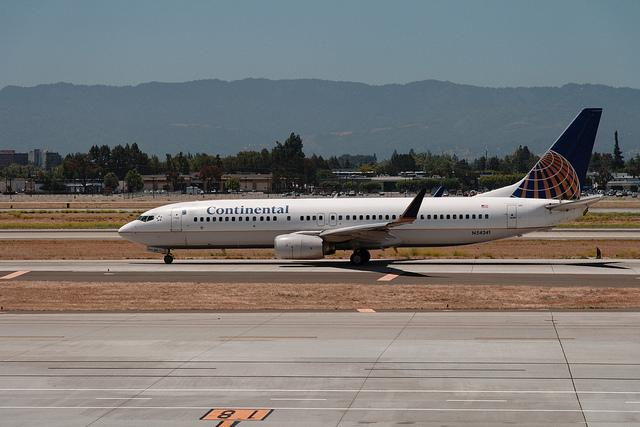airplane: (116, 105, 608, 266)
